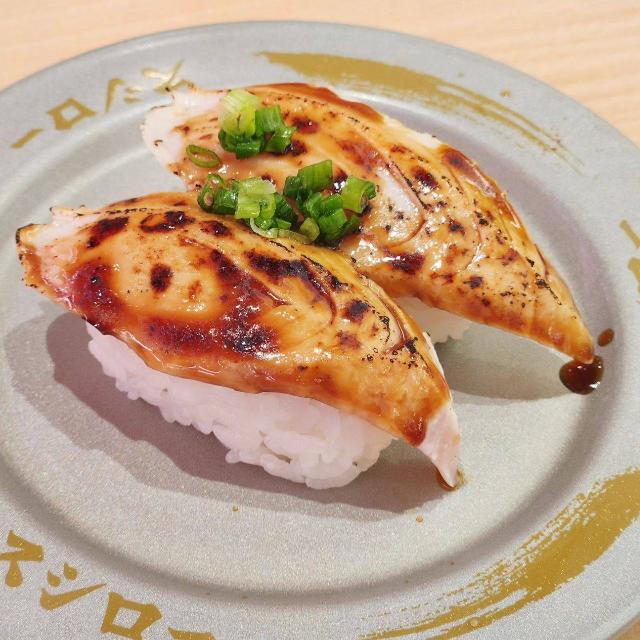janwhite: (0, 36, 640, 634)
